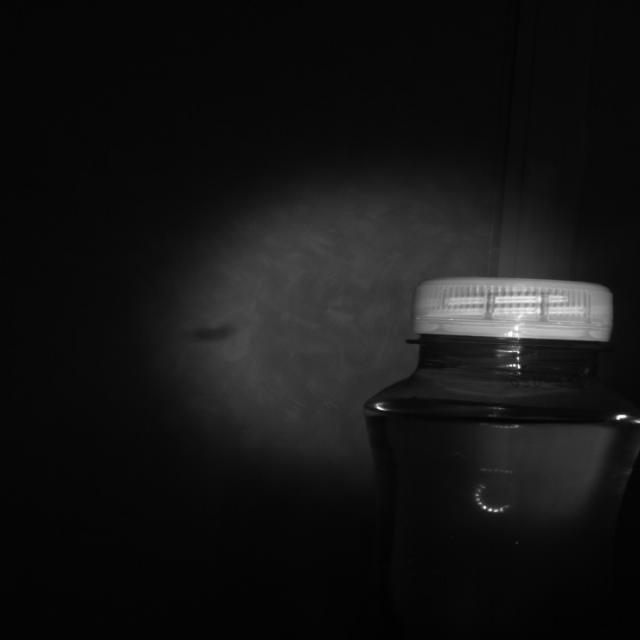Good: (408, 273, 616, 346)
